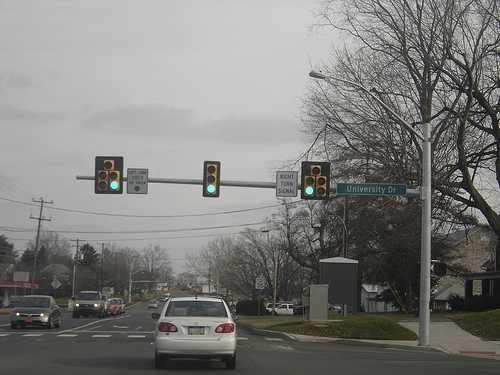green: (95, 157, 123, 193), (301, 161, 328, 198), (201, 159, 219, 197), (108, 170, 120, 191), (302, 176, 314, 195)
